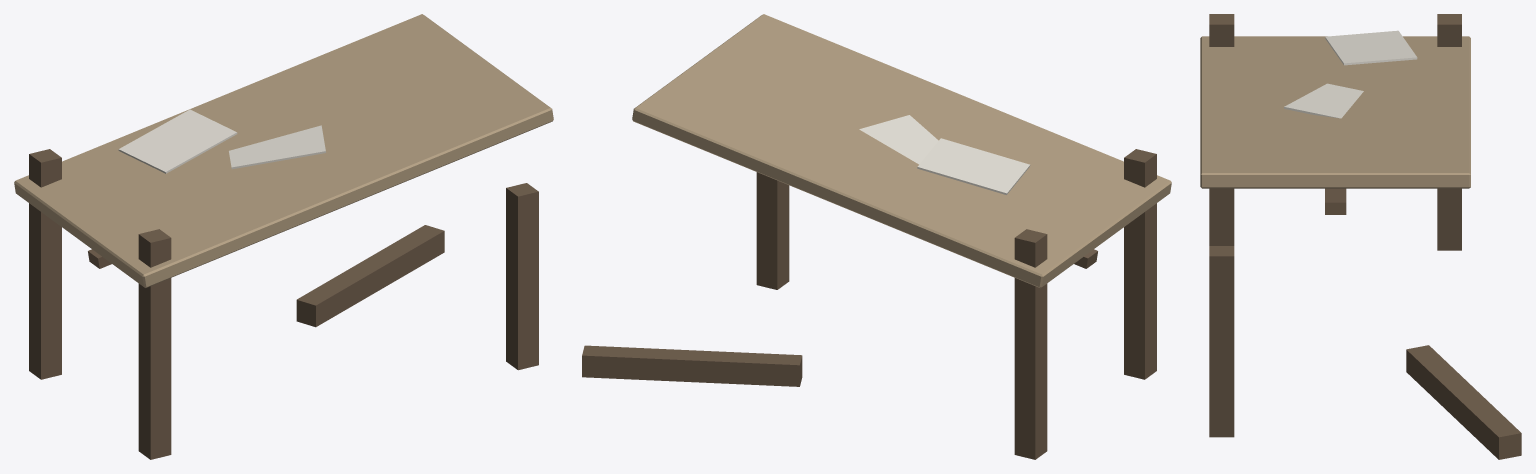
Rendered from Dress_TableBroken.fbx.
The picture shows the model from 3 angles, left to right: view 1: azimuth 30°, elevation 25°; view 2: azimuth 150°, elevation 25°; view 3: azimuth 270°, elevation 25°; orthographic projection. The views are drawn at different scales.
Visible parts, largest first — view 1: Dress_TableBroken; view 2: Dress_TableBroken; view 3: Dress_TableBroken.
Boxes of the visible parts, left/top/right/bottom form: Dress_TableBroken: left=14, top=14, right=553, bottom=459; Dress_TableBroken: left=582, top=14, right=1171, bottom=459; Dress_TableBroken: left=1200, top=14, right=1521, bottom=459.
Bounding box in the file's own units: 150 × 83.14 × 90.21.
